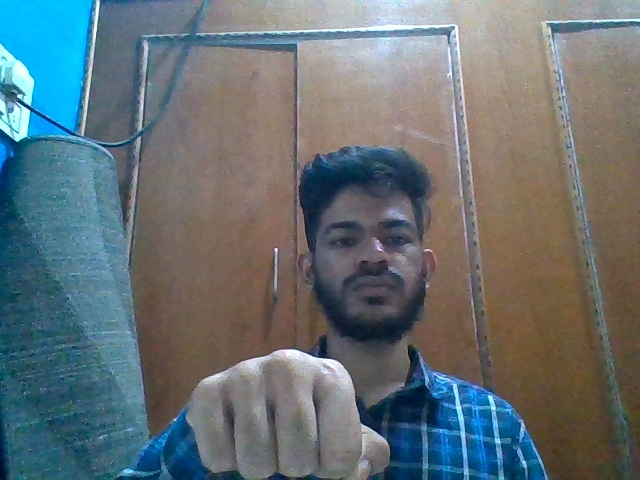yes: (187, 344, 393, 480)
